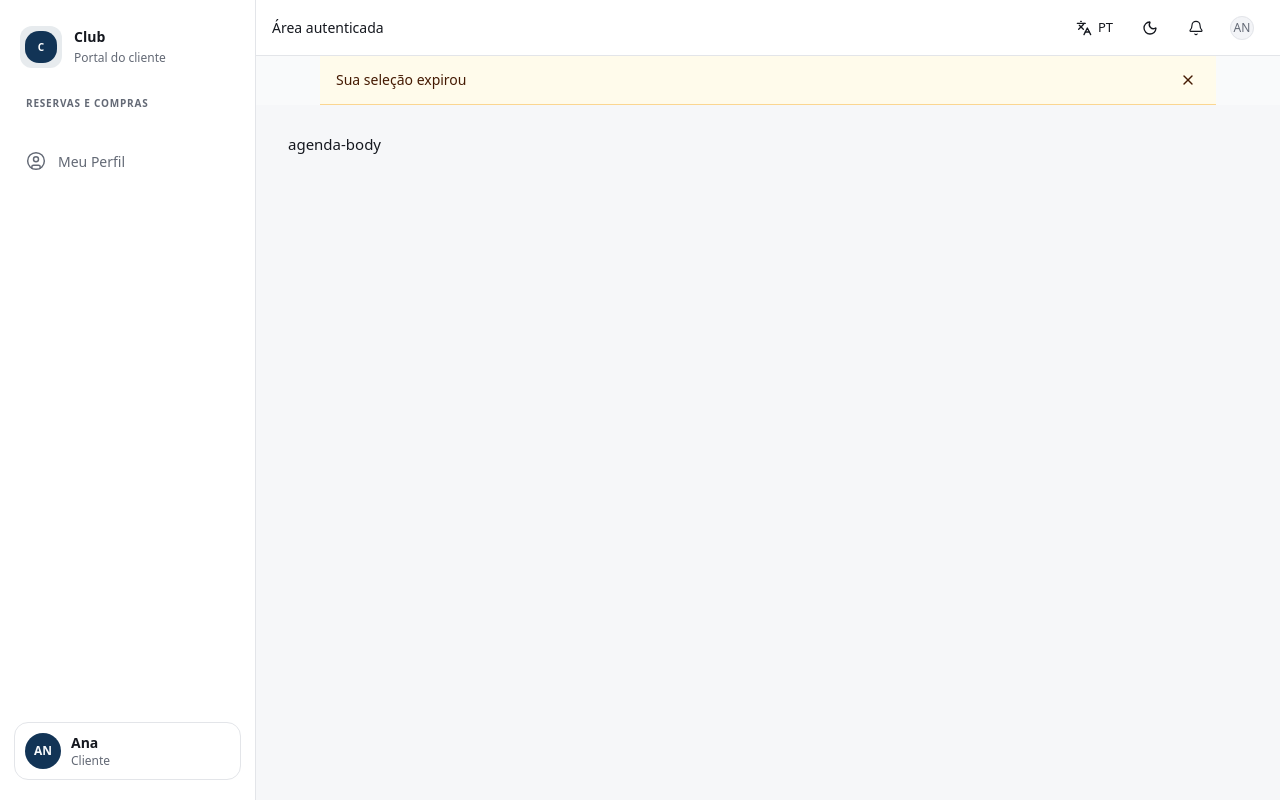
Scenario: CustomerAppLayout session tenant › keeps the expired selection notice across a shell remount until dismissed
The image size is (1280, 800).
Check: the message reads "Sua seleção expirou", box [336,70,466,89]
Click the button named "Fechar" at [1188, 80], box [1176,68,1200,92]
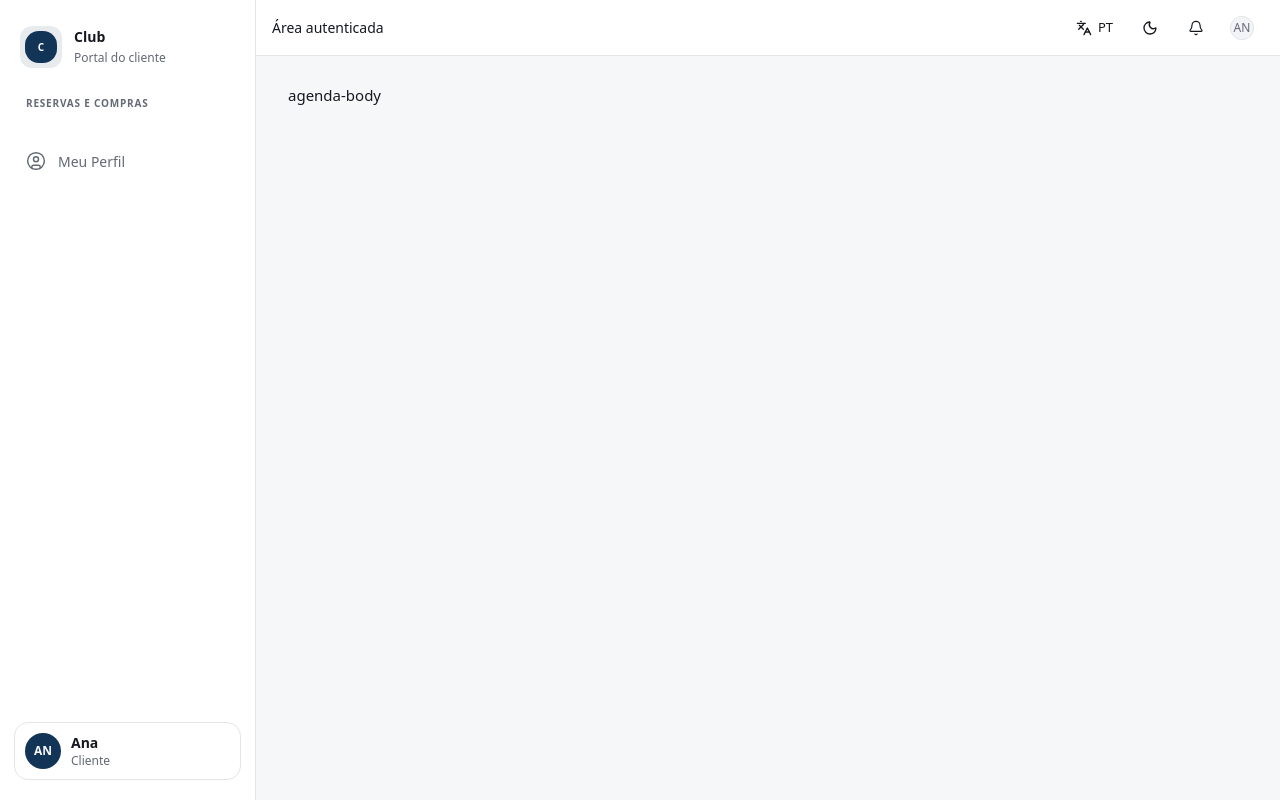
Check: the message "Sua seleção expirou" is gone
